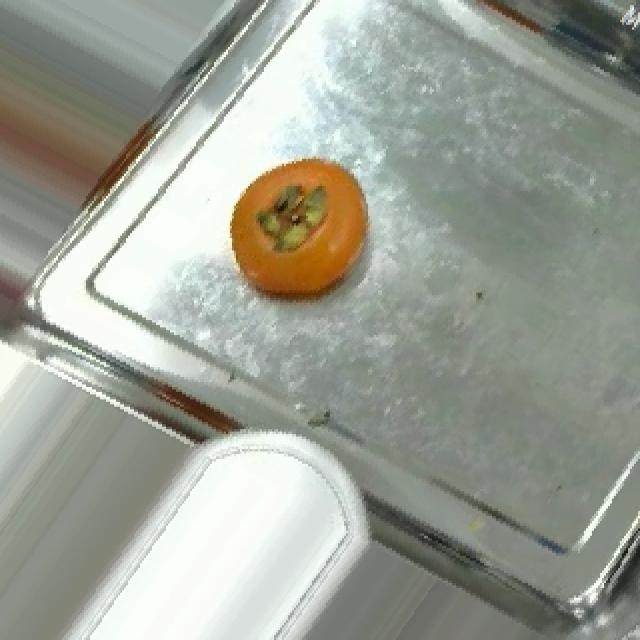Fruit: (214, 139, 388, 320)
